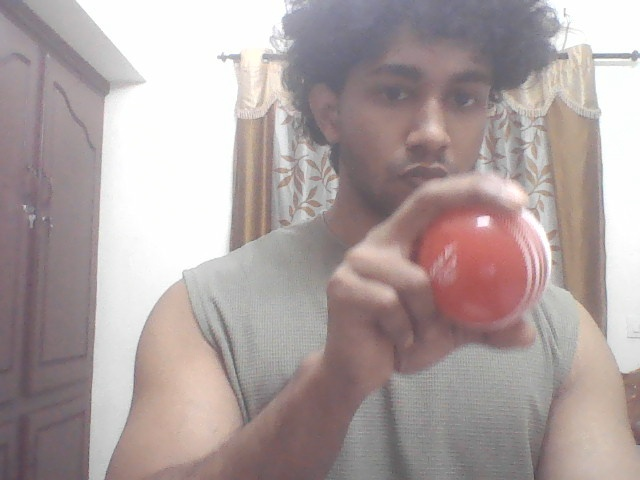cricket_ball: (415, 199, 558, 343)
